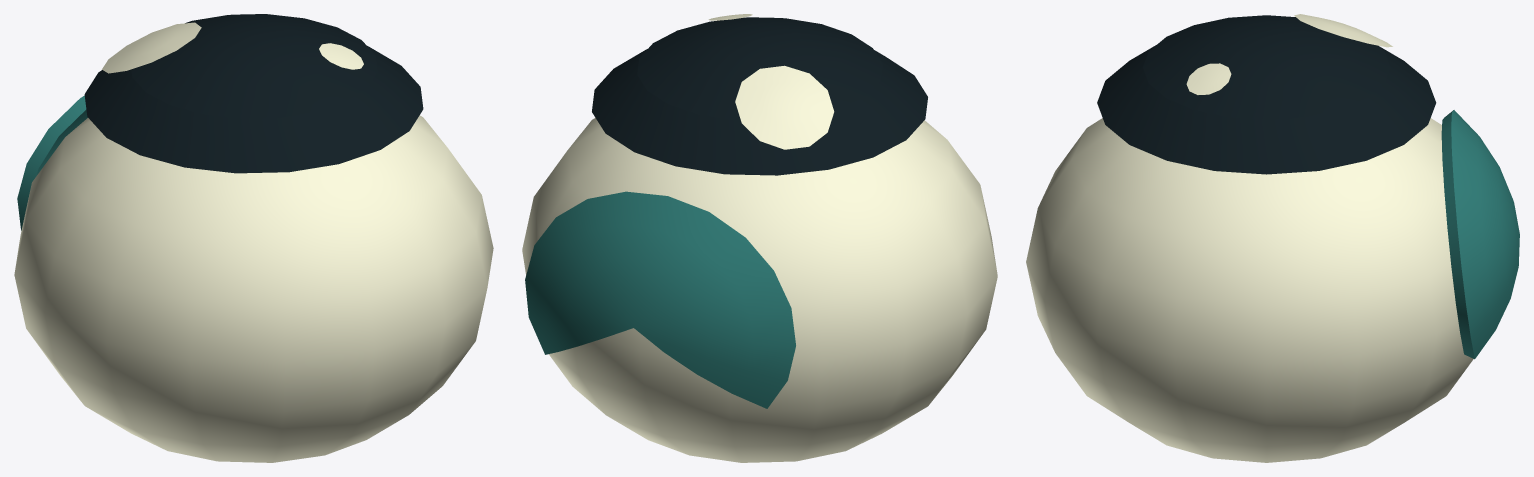
File: eye_cute.glb
3 views of the same model, side by side, from view 1: azimuth 30°, elevation 25°; view 2: azimuth 150°, elevation 25°; view 3: azimuth 270°, elevation 25° (orthographic).
Visible parts, largest first — view 1: eye_cute, eye_cute_pupil, eye_cute_lid; view 2: eye_cute, eye_cute_pupil, eye_cute_lid; view 3: eye_cute, eye_cute_pupil, eye_cute_lid.
Part boxes in pixels (<box>): eye_cute: <box>14,115,493,462</box>; eye_cute_pupil: <box>84,14,423,173</box>; eye_cute_lid: <box>17,95,87,230</box>; eye_cute: <box>522,118,997,462</box>; eye_cute_pupil: <box>592,14,927,175</box>; eye_cute_lid: <box>525,191,795,408</box>; eye_cute: <box>1026,118,1473,462</box>; eye_cute_pupil: <box>1097,14,1436,174</box>; eye_cute_lid: <box>1441,110,1519,359</box>.
Size of the model in its own units: 0.54 by 0.494 by 0.5541.
